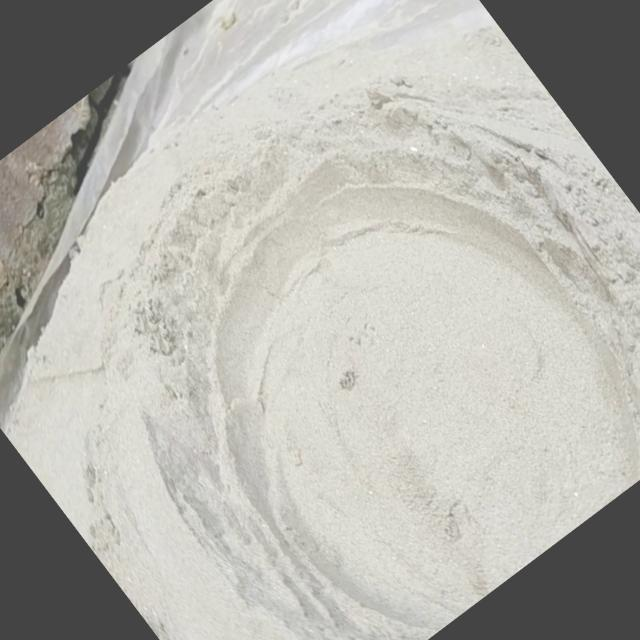C40: (208, 179, 635, 640)
